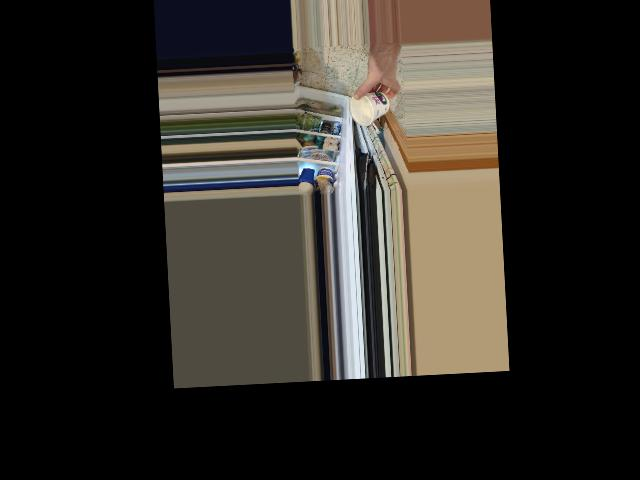cotage: (351, 91, 389, 130)
